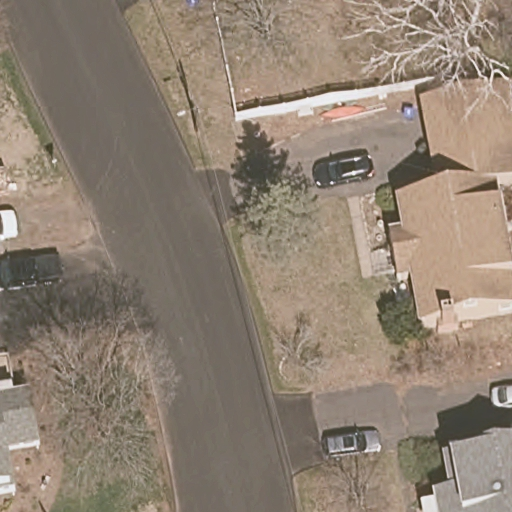DT: (176, 103, 203, 135)
